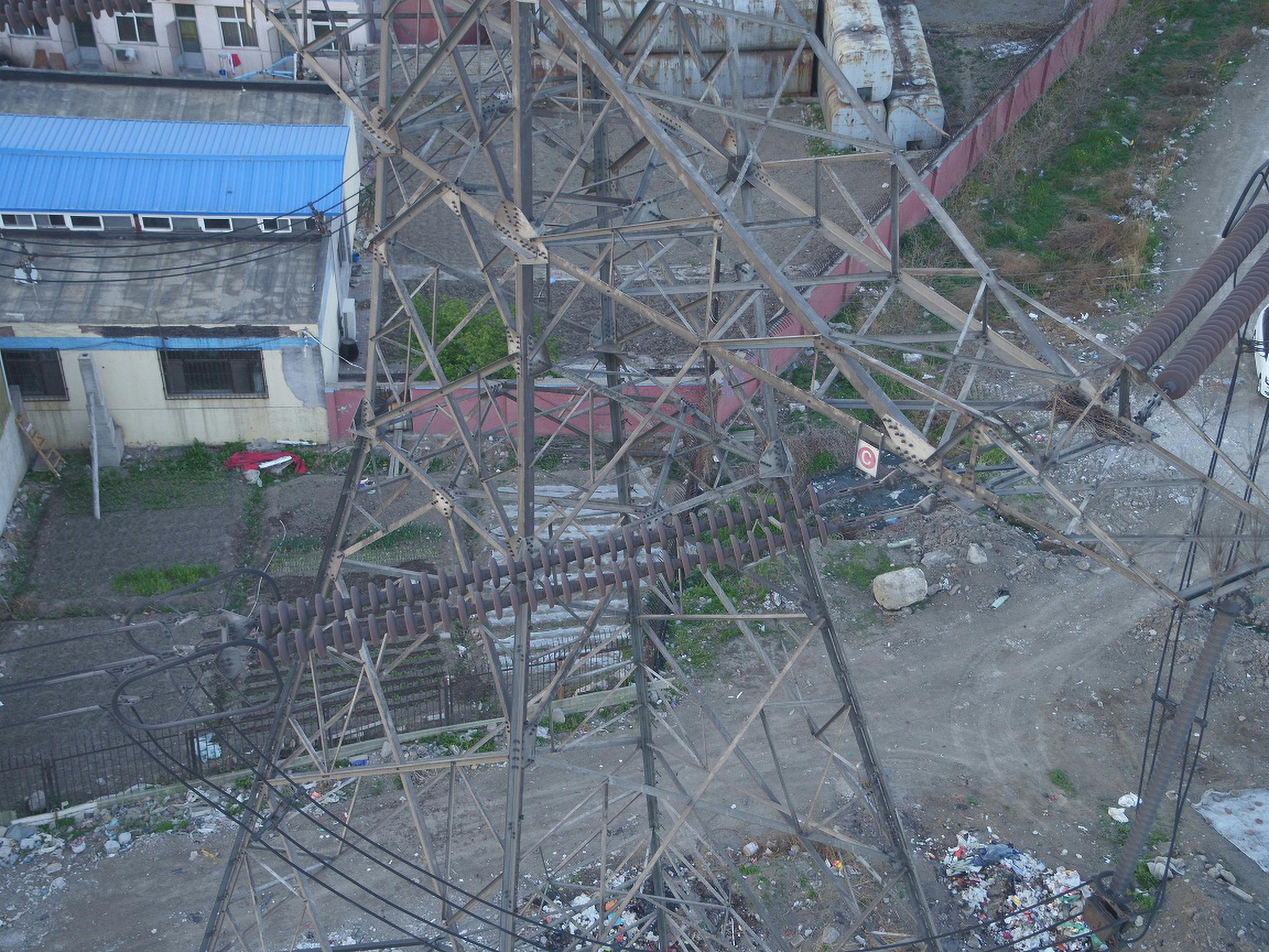insulator: (252, 483, 829, 672), (1107, 607, 1238, 897), (1119, 199, 1269, 405)
